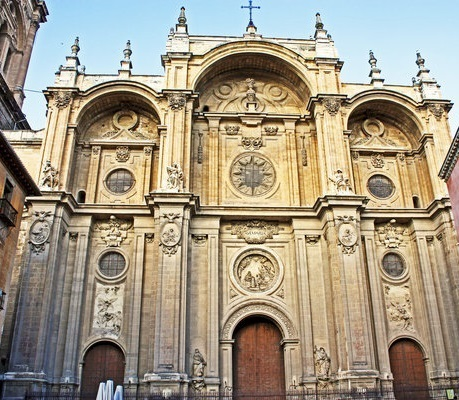arco-medio-punto: (188, 48, 323, 115), (69, 89, 166, 138), (342, 96, 432, 148), (221, 299, 300, 355), (78, 337, 127, 370), (387, 334, 432, 365)
ojo-de-buey: (95, 247, 129, 281), (101, 165, 137, 196), (365, 169, 397, 201), (378, 250, 408, 281)
